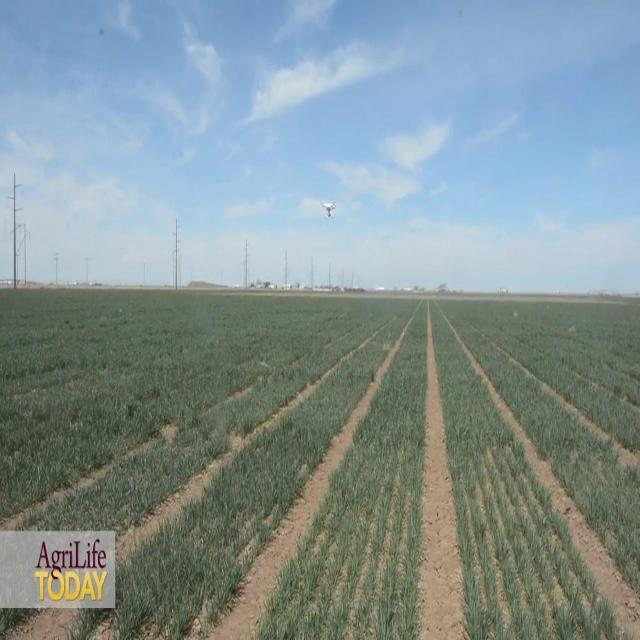UAV: (321, 199, 336, 219)
